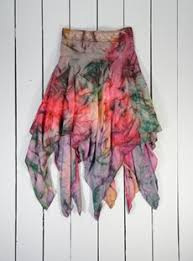C_skirt: (15, 21, 175, 224)
